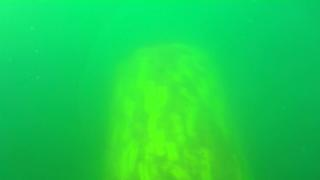pipe: (102, 43, 256, 179)
